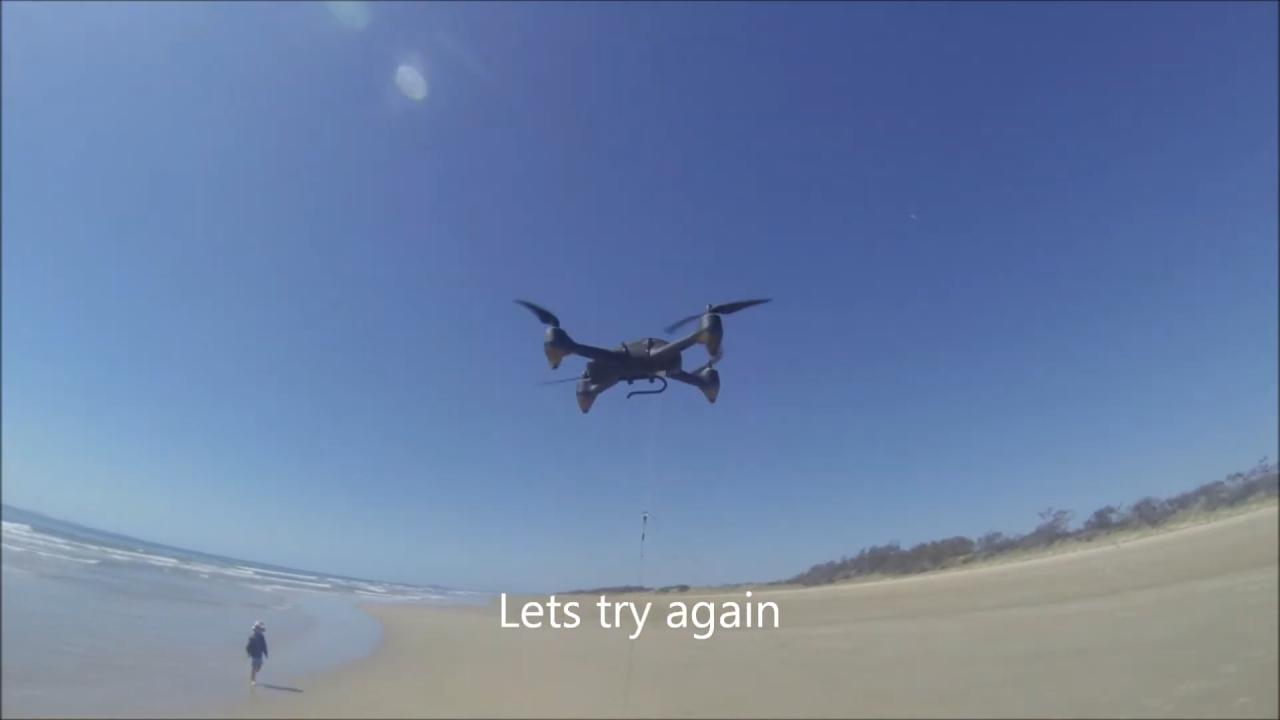Drone: (496, 287, 787, 422)
